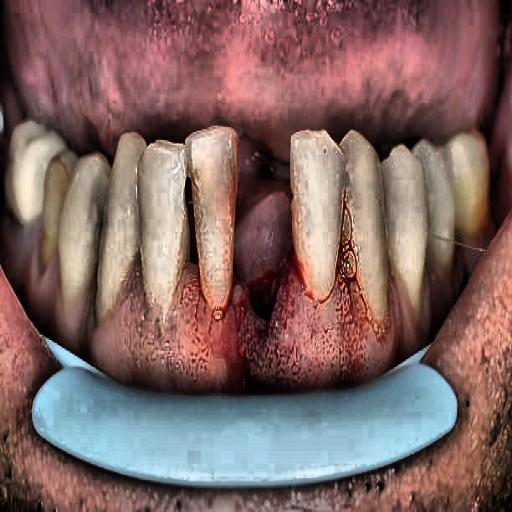Gingivitis: (106, 225, 424, 408)
